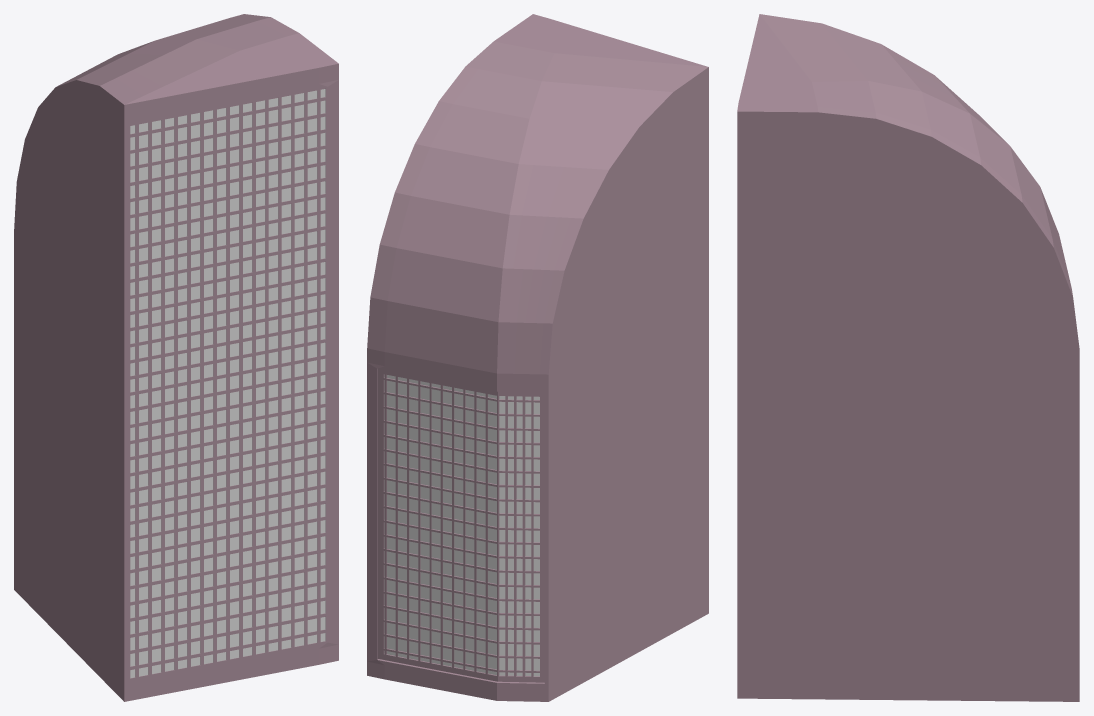
Rendered from 1WestminsterRoad.fbx.
3 views of the same model, side by side, from view 1: azimuth 30°, elevation 25°; view 2: azimuth 150°, elevation 25°; view 3: azimuth 270°, elevation 25° (orthographic). The views are drawn at different scales.
Parts seen in each view (by area): view 1: 1WestminsterRoad_LOD0; view 2: 1WestminsterRoad_LOD0; view 3: 1WestminsterRoad_LOD0.
Boxes of the visible parts, x1,y1,x2,y2 form: 1WestminsterRoad_LOD0: [14, 14, 338, 701]; 1WestminsterRoad_LOD0: [367, 14, 708, 701]; 1WestminsterRoad_LOD0: [737, 14, 1079, 701].
Size of what is drawn, in the model's own units: 3973 by 10776 by 5699.
